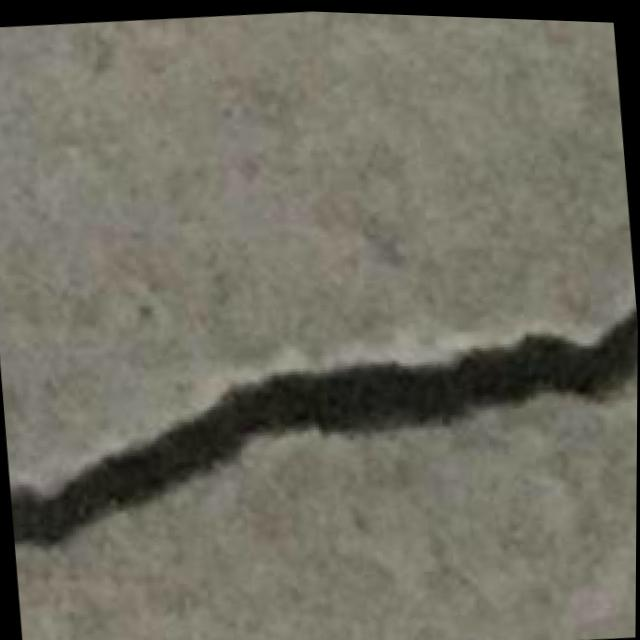Crack: (0, 277, 638, 571)
